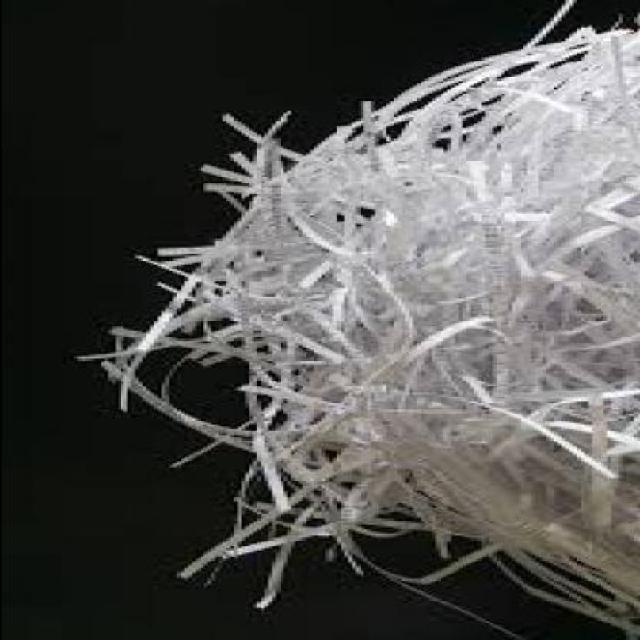PAPER: (65, 2, 637, 640)
